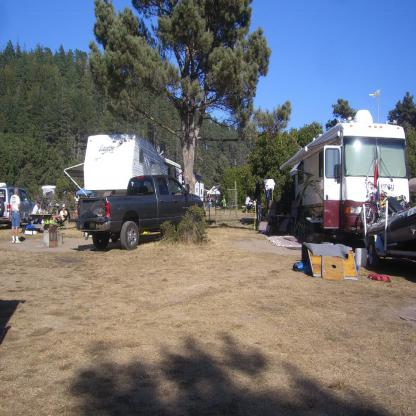Car: (368, 209, 416, 272), (0, 184, 36, 228), (74, 199, 78, 205)
Truck: (280, 89, 411, 239), (63, 134, 168, 242), (362, 201, 416, 266), (159, 156, 184, 188), (182, 172, 206, 203)
